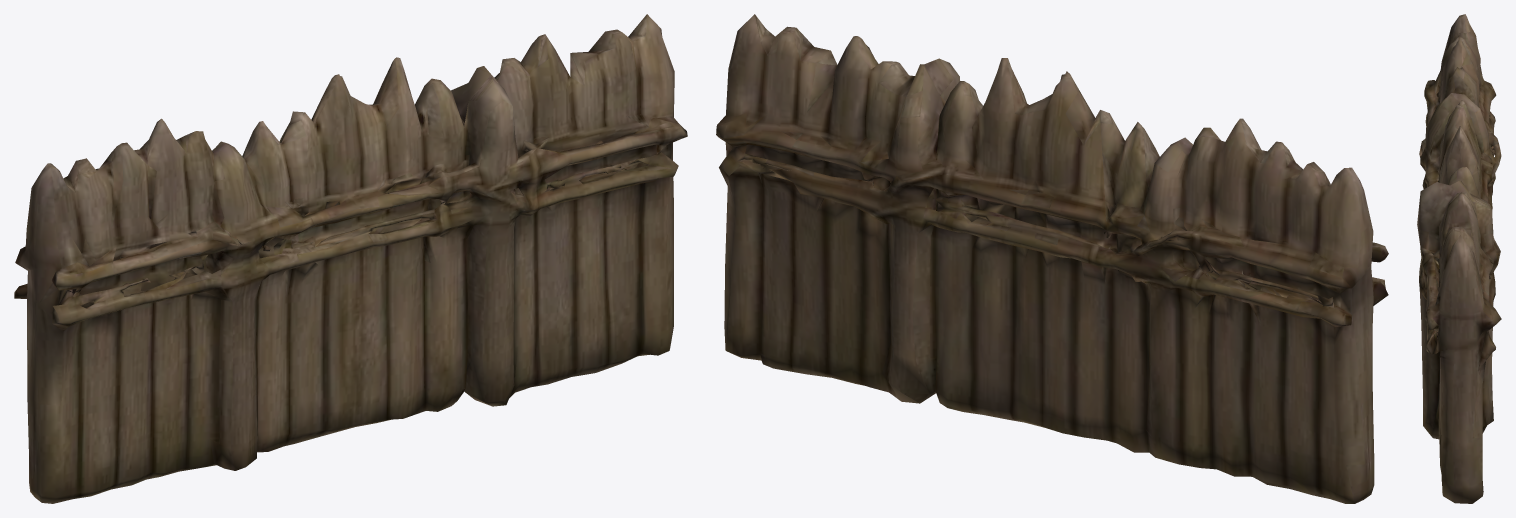
Rendered from fence wooden.glb.
3 views of the same model, side by side, from view 1: azimuth 30°, elevation 25°; view 2: azimuth 150°, elevation 25°; view 3: azimuth 270°, elevation 25° (orthographic). The views are drawn at different scales.
Size of the model in its own units: 2 by 1.08 by 0.2973.
Materials: 1 (1 with a texture image).
